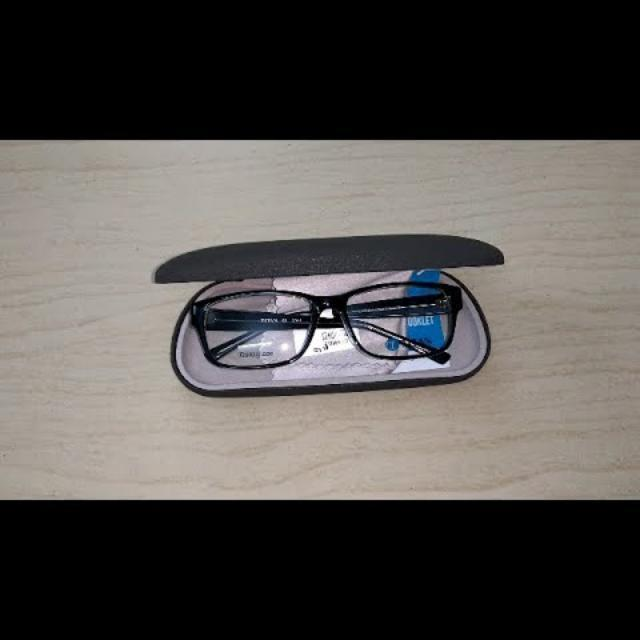glasses: (190, 280, 468, 366)
